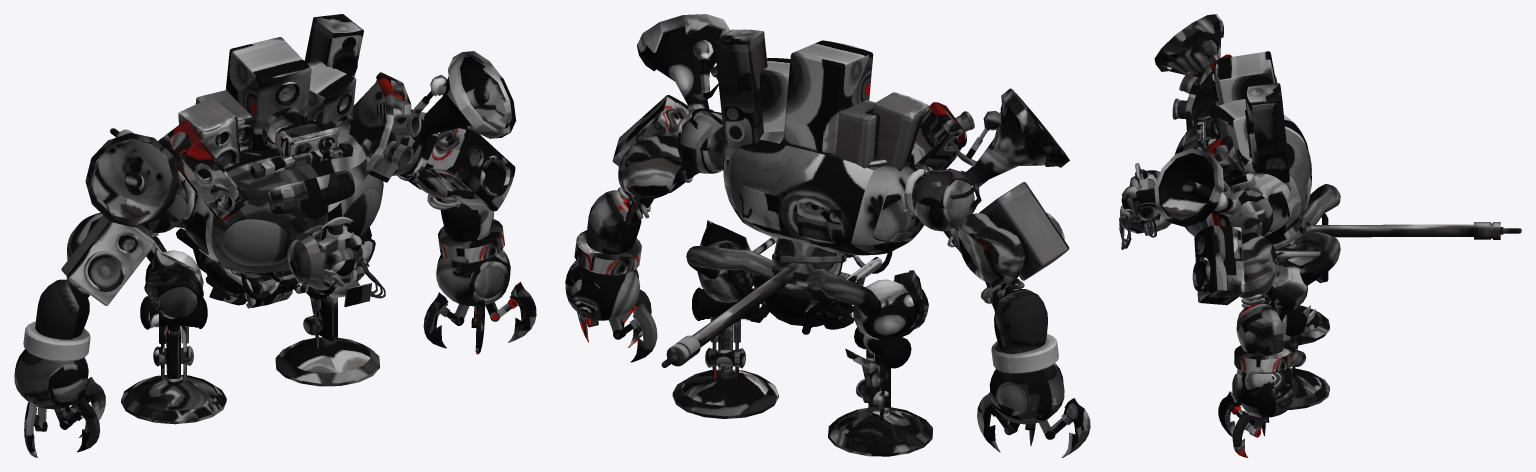
Rendered from FBX_McMD_macarobot_05.fbx.
3 views of the same model, side by side, from view 1: azimuth 30°, elevation 25°; view 2: azimuth 150°, elevation 25°; view 3: azimuth 270°, elevation 25° (orthographic). The views are drawn at different scales.
Visible parts, largest first — view 1: pasted__polySurface40, McMD_speaker3_cover_pasted__polySurface18, polySurface45, speaker9, polySurface59, McMD_speaker3_cover_pasted__polySurface14, polySurface62, pasted__polySurface18, ude3, cover1, pCylinder25, McMD_speaker3_cover_pasted__polySurface17 (+20 smaller); view 2: polySurface45, pasted__polySurface40, polySurface59, McMD_speaker3_cover_pasted__polySurface14, ude4, pasted__polySurface18, McMD_speaker3_cover_pasted__polySurface18, ude3, McMD_speaker4_cover_pasted__polySurface9, kata1, pasted__pCylinder22, polySurface51 (+21 smaller); view 3: pasted__polySurface40, polySurface45, McMD_speaker3_cover_pasted__polySurface18, McMD_speaker4_cover_pasted__polySurface9, speaker9, pasted__pasted__pasted__pCylinder17, pasted__pCylinder22, polySurface62, McMD_speaker3_cover_pasted__polySurface14, pasted__polySurface18, ude3, polySurface59 (+9 smaller).
Part boxes in pixels (bbox=[...]): pasted__polySurface40: bbox=[85, 51, 516, 236]; McMD_speaker3_cover_pasted__polySurface18: bbox=[61, 128, 515, 305]; polySurface45: bbox=[177, 133, 383, 273]; speaker9: bbox=[158, 72, 421, 222]; polySurface59: bbox=[121, 296, 379, 424]; McMD_speaker3_cover_pasted__polySurface14: bbox=[226, 37, 311, 151]; polySurface62: bbox=[287, 216, 385, 306]; pasted__polySurface18: bbox=[14, 249, 510, 409]; ude3: bbox=[35, 203, 494, 339]; cover1: bbox=[222, 188, 380, 265]; pCylinder25: bbox=[23, 219, 504, 361]; McMD_speaker3_cover_pasted__polySurface17: bbox=[306, 58, 356, 134]; polySurface45: bbox=[721, 131, 933, 255]; pasted__polySurface40: bbox=[637, 14, 1069, 213]; polySurface59: bbox=[672, 327, 932, 456]; McMD_speaker3_cover_pasted__polySurface14: bbox=[783, 40, 873, 154]; ude4: bbox=[618, 135, 1024, 286]; pasted__polySurface18: bbox=[565, 260, 1064, 424]; McMD_speaker3_cover_pasted__polySurface18: bbox=[612, 95, 1069, 280]; ude3: bbox=[586, 190, 1047, 352]; McMD_speaker4_cover_pasted__polySurface9: bbox=[714, 29, 767, 165]; kata1: bbox=[677, 112, 974, 231]; pasted__pCylinder22: bbox=[686, 246, 881, 317]; polySurface51: bbox=[853, 270, 928, 340]; pasted__polySurface40: bbox=[1154, 14, 1264, 227]; polySurface45: bbox=[1183, 115, 1311, 241]; McMD_speaker3_cover_pasted__polySurface18: bbox=[1192, 225, 1244, 305]; McMD_speaker4_cover_pasted__polySurface9: bbox=[1245, 83, 1290, 190]; speaker9: bbox=[1172, 54, 1247, 185]; pasted__pasted__pasted__pCylinder17: bbox=[1306, 222, 1521, 239]; pasted__pCylinder22: bbox=[1277, 184, 1340, 285]; polySurface62: bbox=[1119, 163, 1171, 249]; McMD_speaker3_cover_pasted__polySurface14: bbox=[1212, 51, 1276, 106]; pasted__polySurface18: bbox=[1237, 368, 1292, 417]; ude3: bbox=[1236, 303, 1283, 355]; polySurface59: bbox=[1283, 305, 1329, 409].
Bounding box in the file's own units: 29.75 × 19.79 × 23.95.
